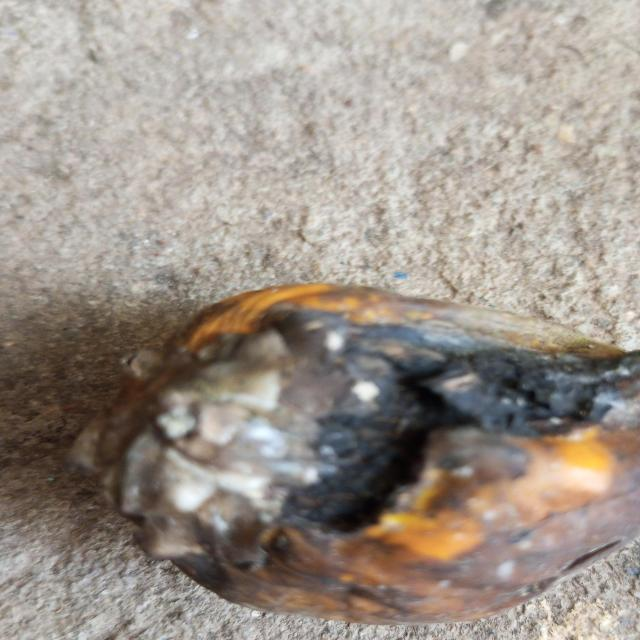damaged: (83, 283, 640, 628)
